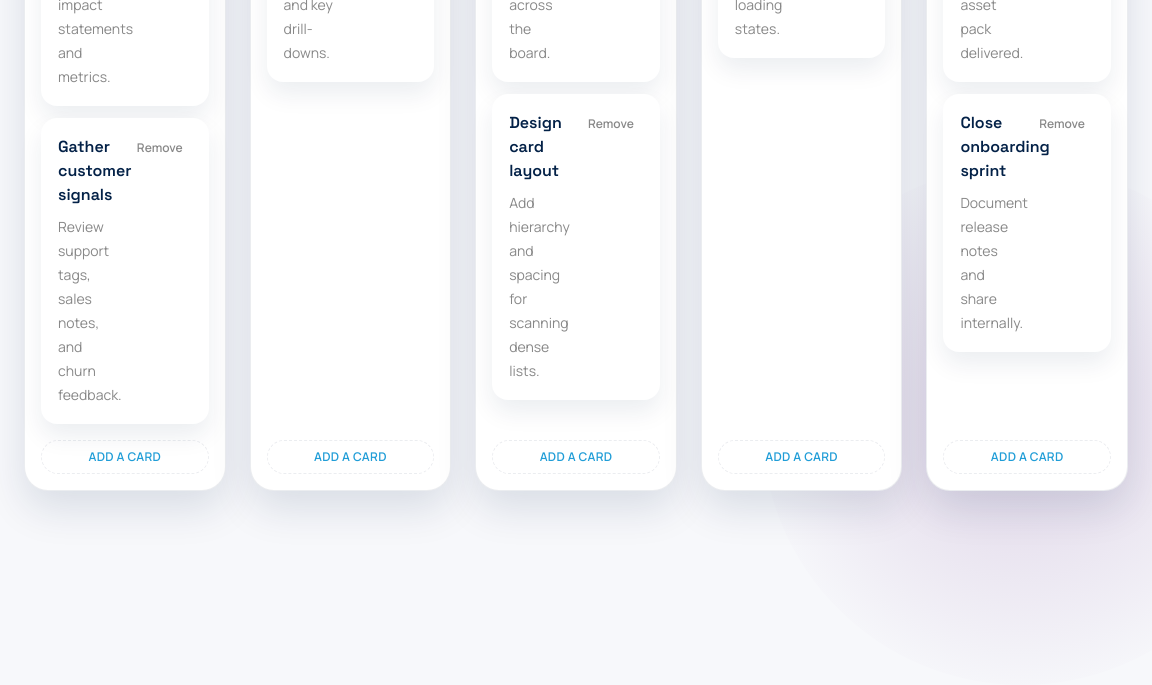
Scenario: KanbanBoard › adds and removes a card
(page scrolled)
Click the 1st button "Add a card": [125, 457] box [41,440,209,474]
(page scrolled)
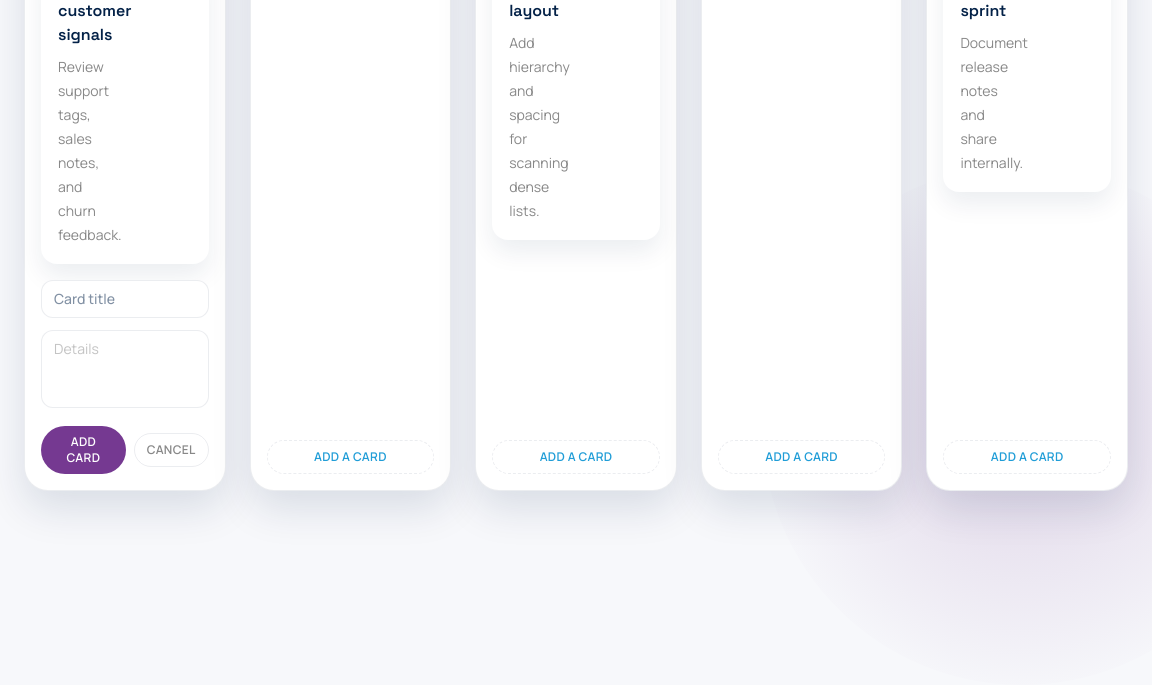
In the field with placeholder "Card title": [125, 299] box [41,280,209,318], type "Fresh card"
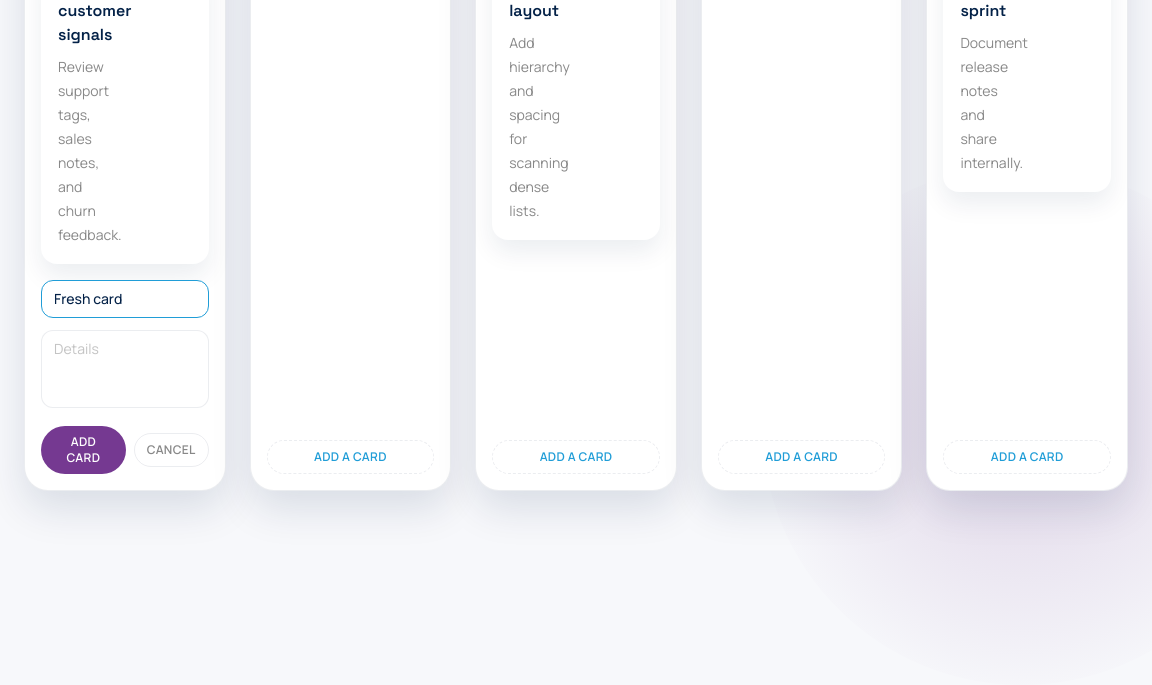
Click the button "Add card": [83, 450] box [41,426,126,474]
(page scrolled)
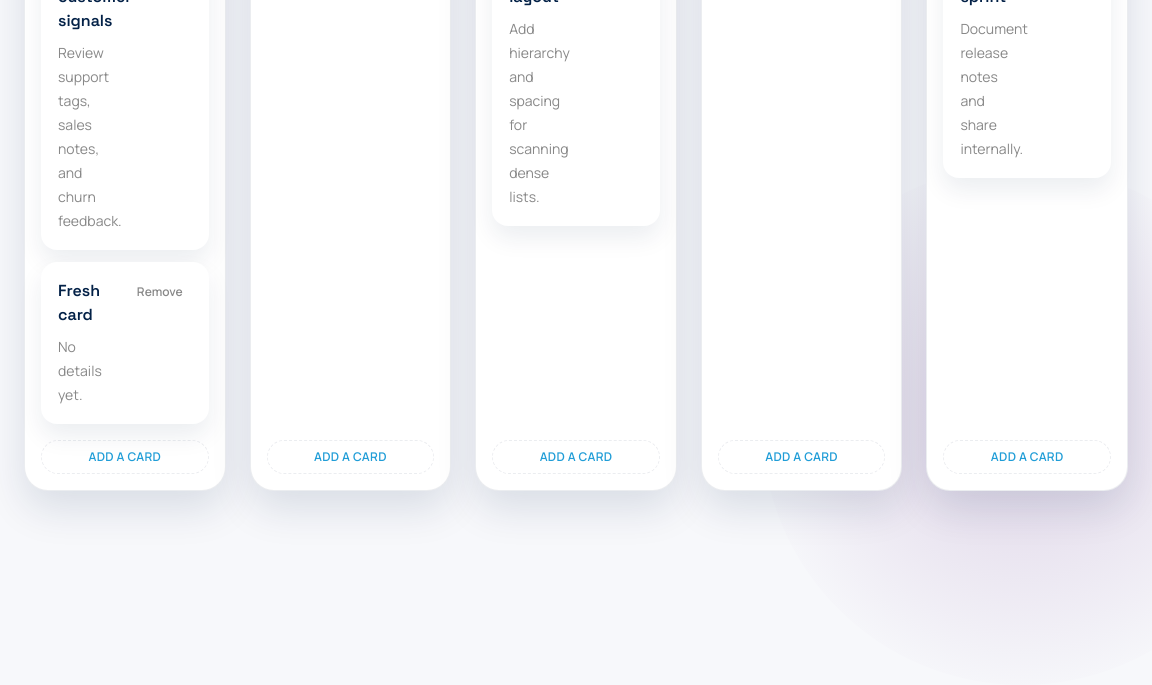
Expected: the heading "Fresh card" is shown, [58,280,100,325]
Click the button with aria-label "delete fresh card": [160, 292] box [128,279,192,305]
(page scrolled)
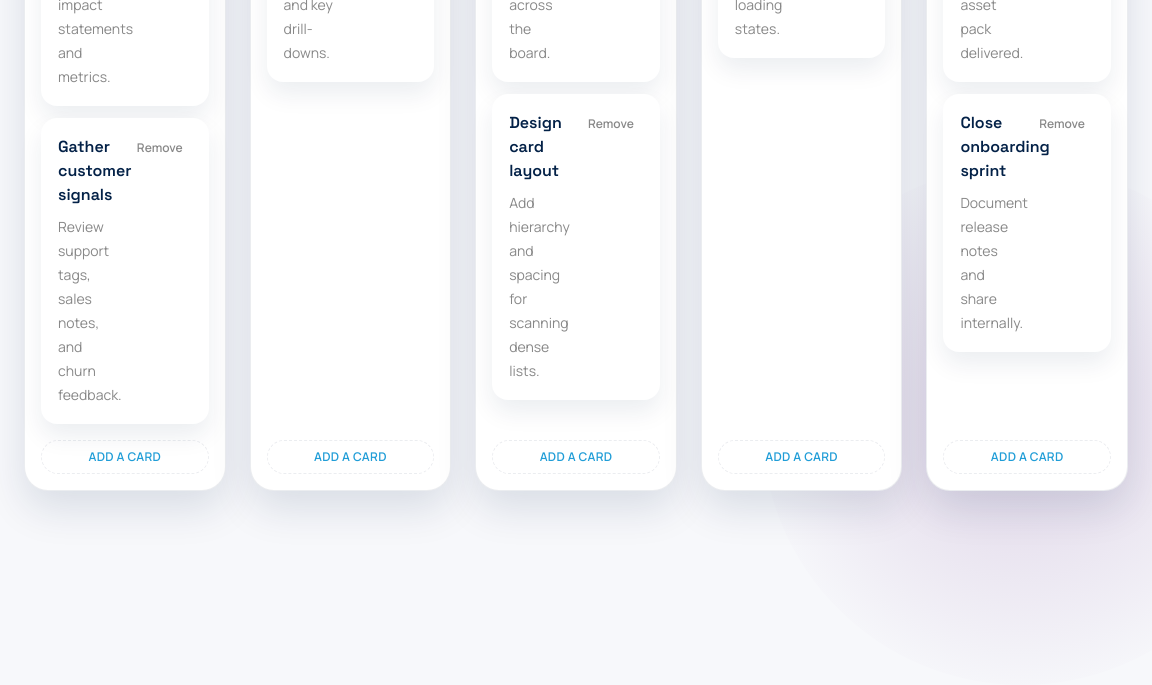
Expected: the button "Fresh card" is gone
